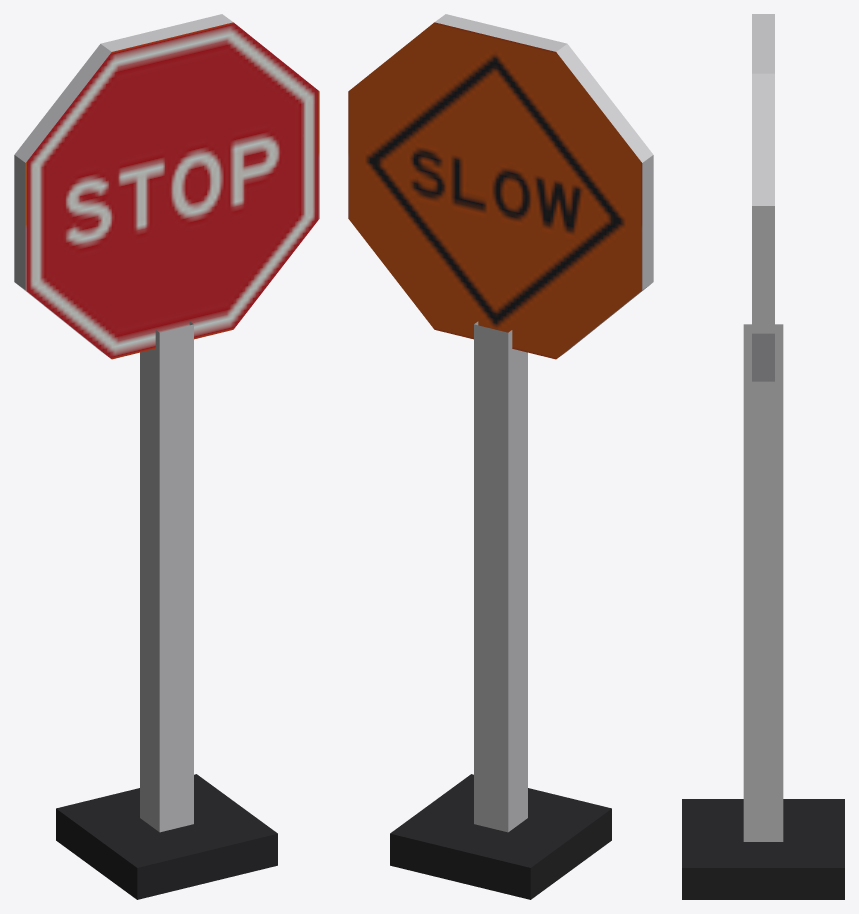
The model's file is workzone_flagger_paddle.obj.
The picture shows the model from 3 angles, left to right: view 1: azimuth 30°, elevation 25°; view 2: azimuth 150°, elevation 25°; view 3: azimuth 270°, elevation 25°; orthographic projection.
Parts seen in each view (by area): view 1: workzone_flagger_paddle; view 2: workzone_flagger_paddle; view 3: workzone_flagger_paddle.
Boxes of the visible parts, bbox=[...] form: workzone_flagger_paddle: bbox=[14, 14, 319, 899]; workzone_flagger_paddle: bbox=[348, 14, 653, 899]; workzone_flagger_paddle: bbox=[682, 14, 844, 899].
Size of the model in its own units: 0.3 by 0.8 by 0.1437.
